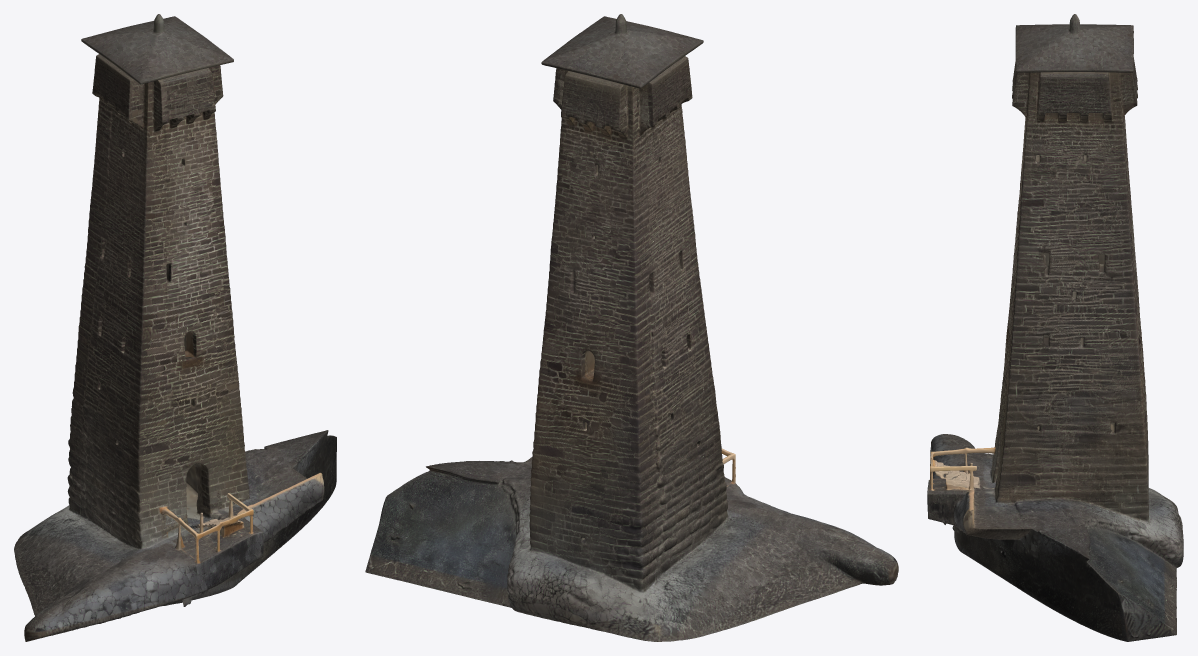
File: tower-watchtower.glb
3 views of the same model, side by side, from view 1: azimuth 30°, elevation 25°; view 2: azimuth 150°, elevation 25°; view 3: azimuth 270°, elevation 25° (orthographic). The views are drawn at different scales.
Size of the model in its own units: 1.49 by 1.9 by 0.8342.
1 material, 1 textured.
